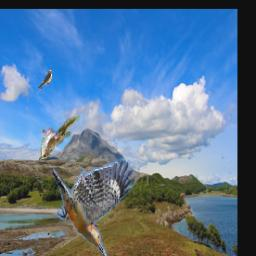Cuckoo: (38, 117, 80, 161)
Swallow: (36, 69, 52, 95)
Woodpecker: (52, 158, 136, 256)
